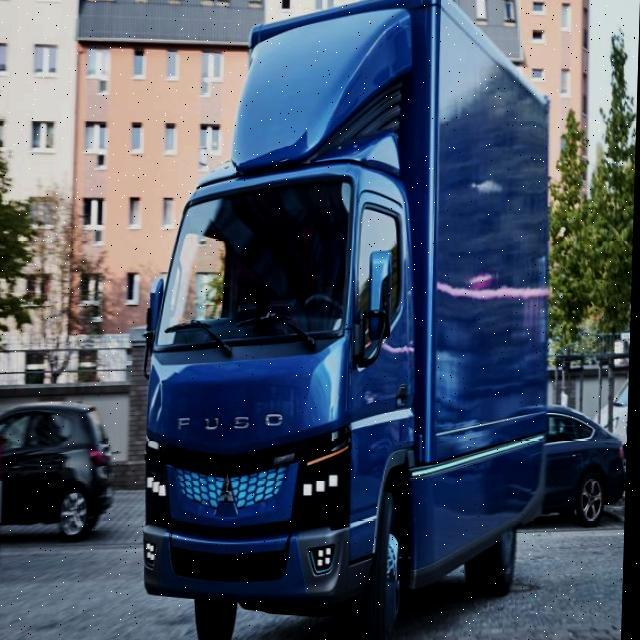truck: (140, 0, 559, 640)
